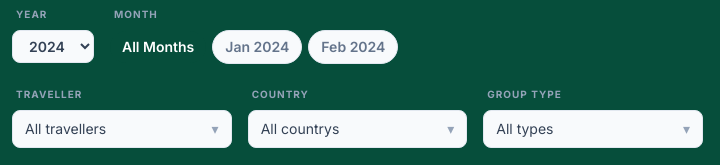
Scenario: Filters Component › only lists years with data, defaulting to the most recent
The image size is (720, 165).
Check: the button "Jan 2024" is shown, box [212,30,302,64]
Check: the button "Feb 2024" is shown, box [308,30,398,64]
Select "2023" in the dropdown labelled "Year": {"x": 53, "y": 46} [12,30,94,63]
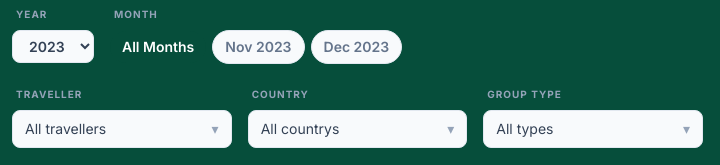
Check: the button "Nov 2023" is shown, box [212,30,304,64]
Check: the button "Dec 2023" is shown, box [310,30,402,64]
Check: the button "Jan 2024" is gone
